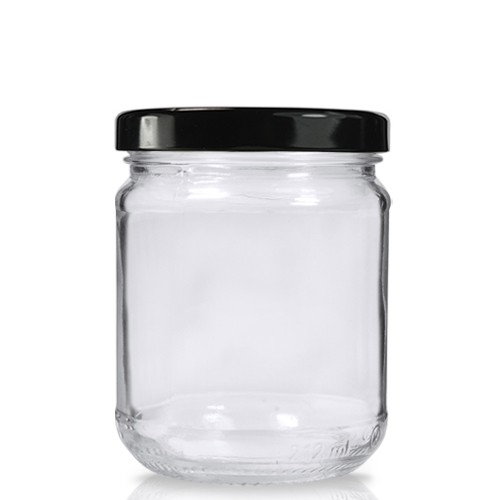glass: (113, 103, 394, 490)
